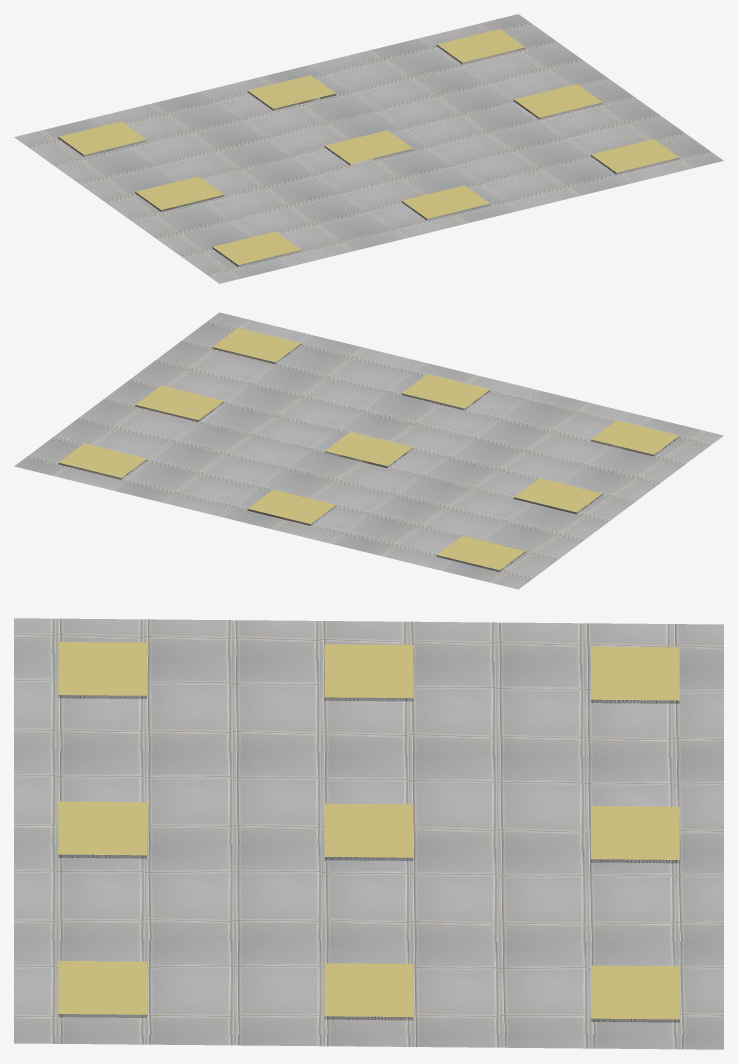
Rendered from Ceiling.fbx.
3 renders of one model, top to bottom at view 1: azimuth 30°, elevation 25°; view 2: azimuth 150°, elevation 25°; view 3: azimuth 270°, elevation 25°, orthographic. The views are drawn at different scales.
Parts seen in each view (by area): view 1: Ceiling.002; view 2: Ceiling.002; view 3: Ceiling.002.
Boxes of the visible parts, x1,y1,x2,y2 form: Ceiling.002: (14,14,723,283); Ceiling.002: (14,312,723,589); Ceiling.002: (14,618,723,1049).
Size of the model in its own units: 931 by 9.41 by 657.
